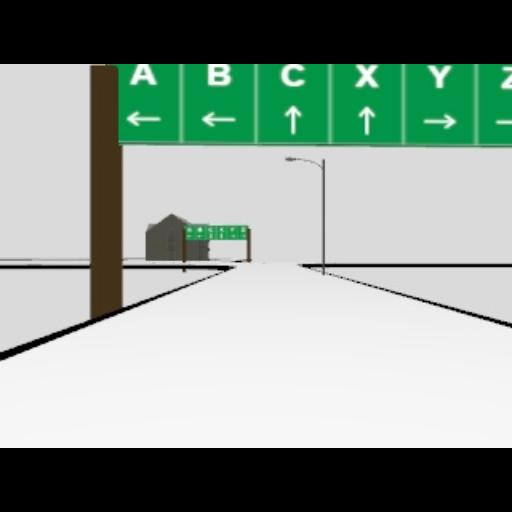A: (128, 64, 160, 88)
B: (207, 64, 233, 88)
C: (280, 64, 306, 88)
Left: (200, 110, 236, 128), (126, 110, 160, 128)
Right: (422, 111, 456, 131)
Straight: (357, 103, 375, 135), (284, 104, 302, 134)
X: (353, 64, 381, 88)
Y: (426, 64, 454, 90)
Z: (499, 64, 512, 90)
